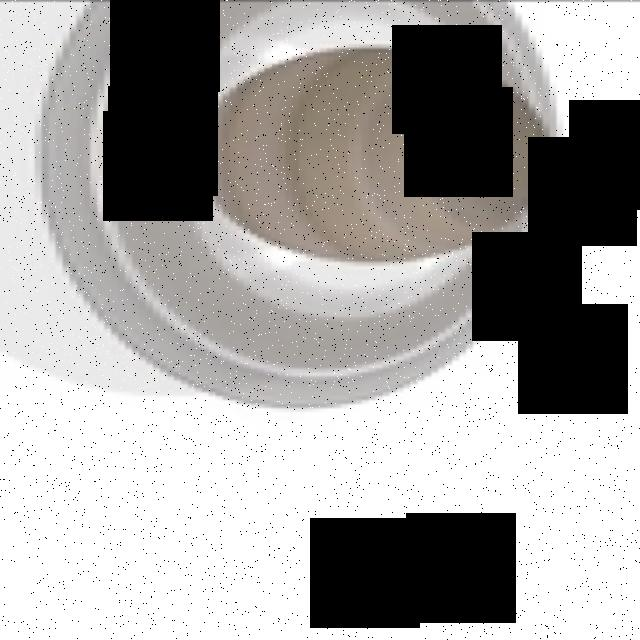Saturn: (35, 0, 577, 415)
